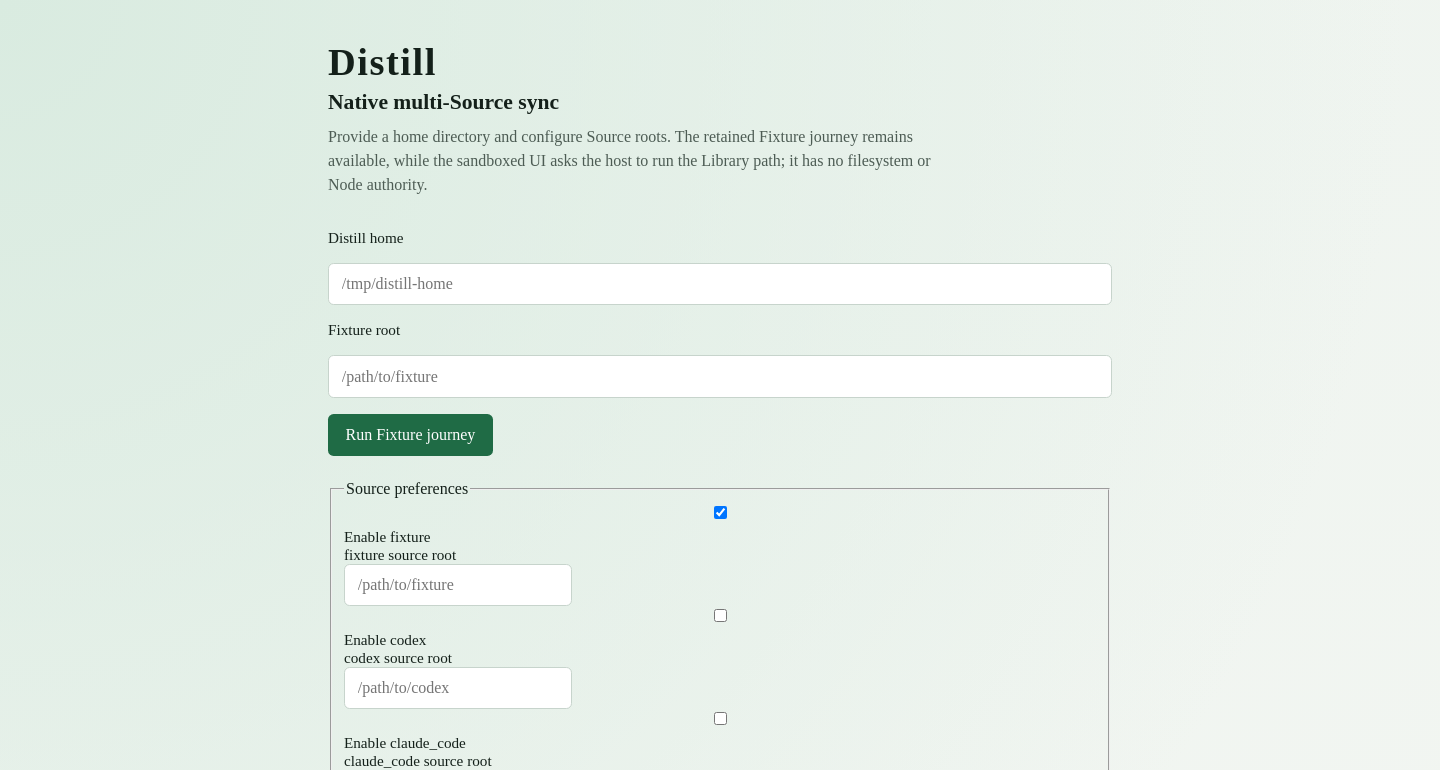
it: first-run Fixture UI › surfaces export error state without inventing eligibility
Type "/tmp/home" into the field labelled "Distill home".
click(720, 284); type("/tmp/home")  # box [328,263,1112,305]
(page scrolled)
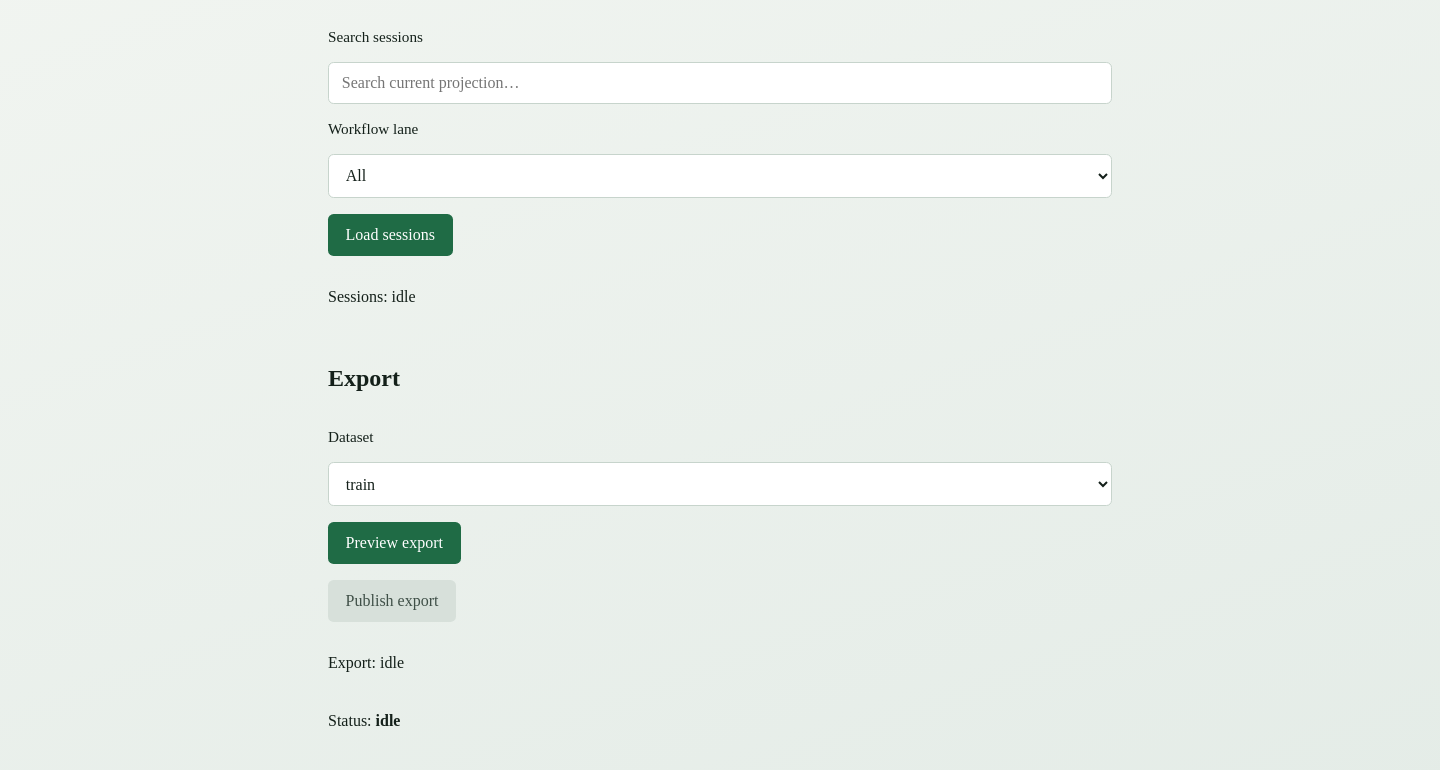
Click the button "Preview export".
click(394, 543)  # box [328,522,460,564]
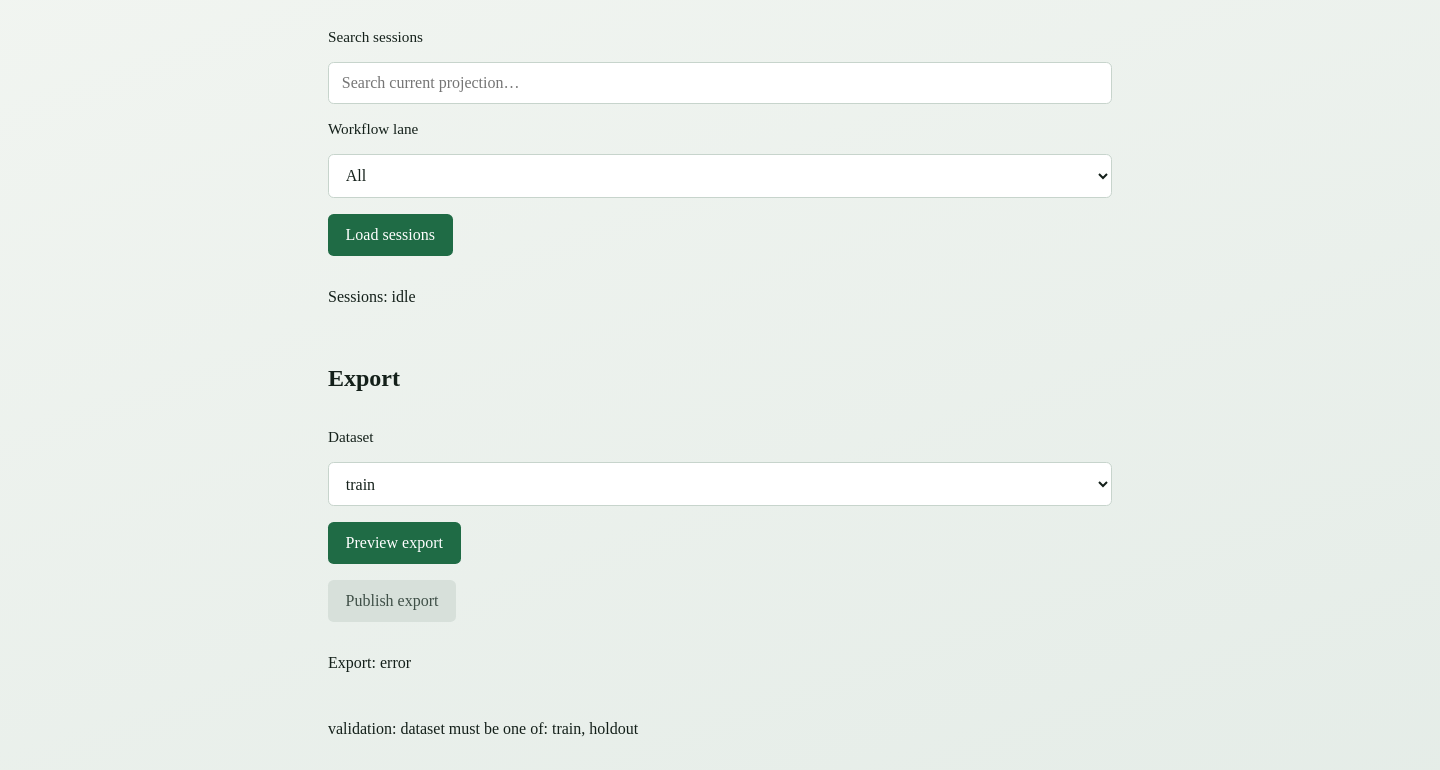
Result: the text with test id "export-status" shows "error" at [380,654,411,671]
Result: the message with test id "export-error" reads "validation: dataset must be one of: train, holdout" at [328,720,638,737]
